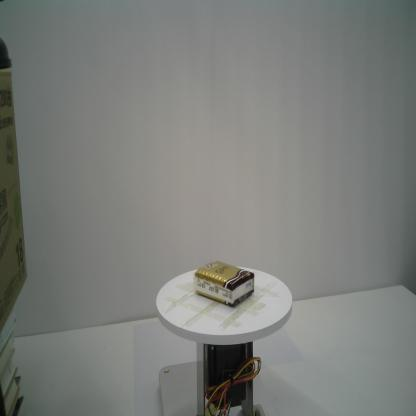Tissue: (194, 260, 255, 307)
